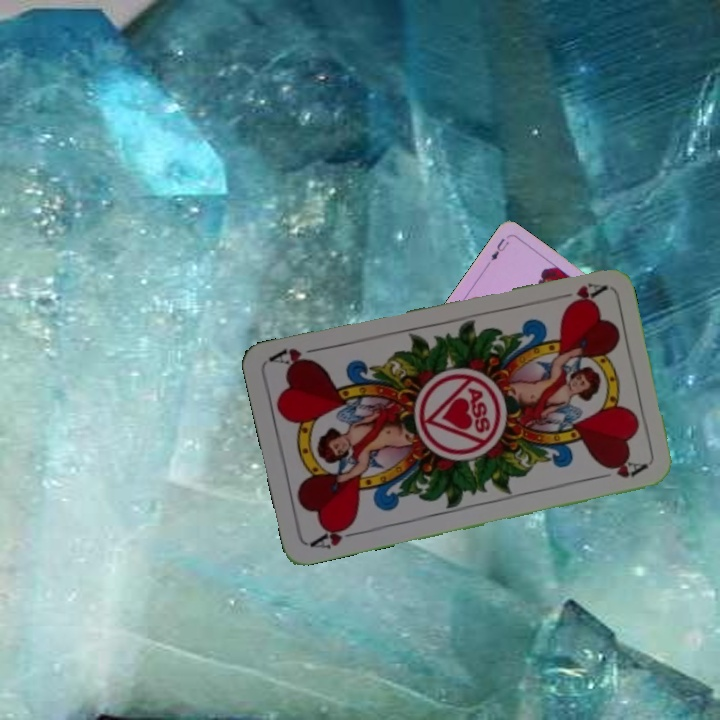EU: (487, 234, 512, 263)
HA: (307, 519, 365, 552), (549, 278, 608, 308)
